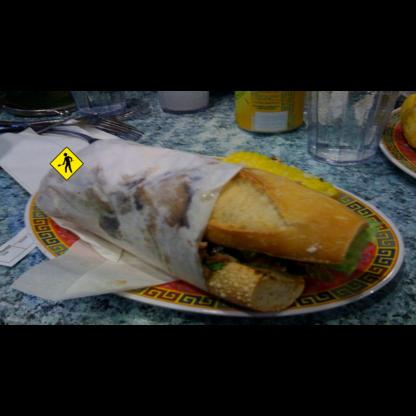A-24: (49, 146, 84, 181)
